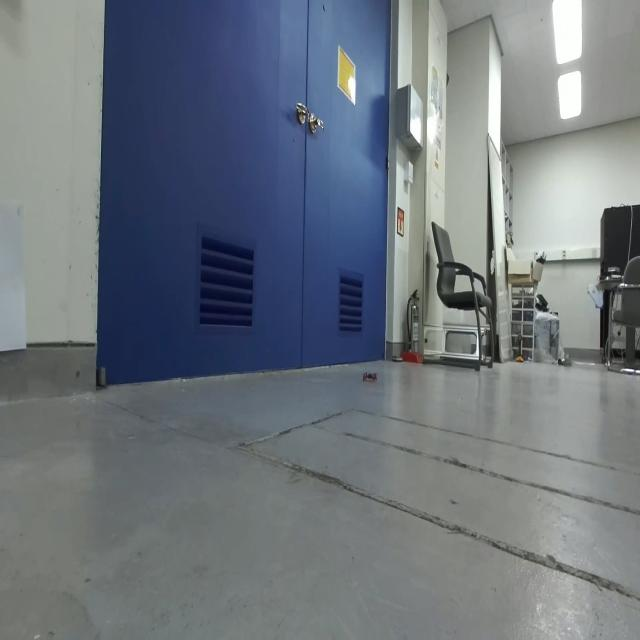crazyflie: (358, 367, 382, 390)
